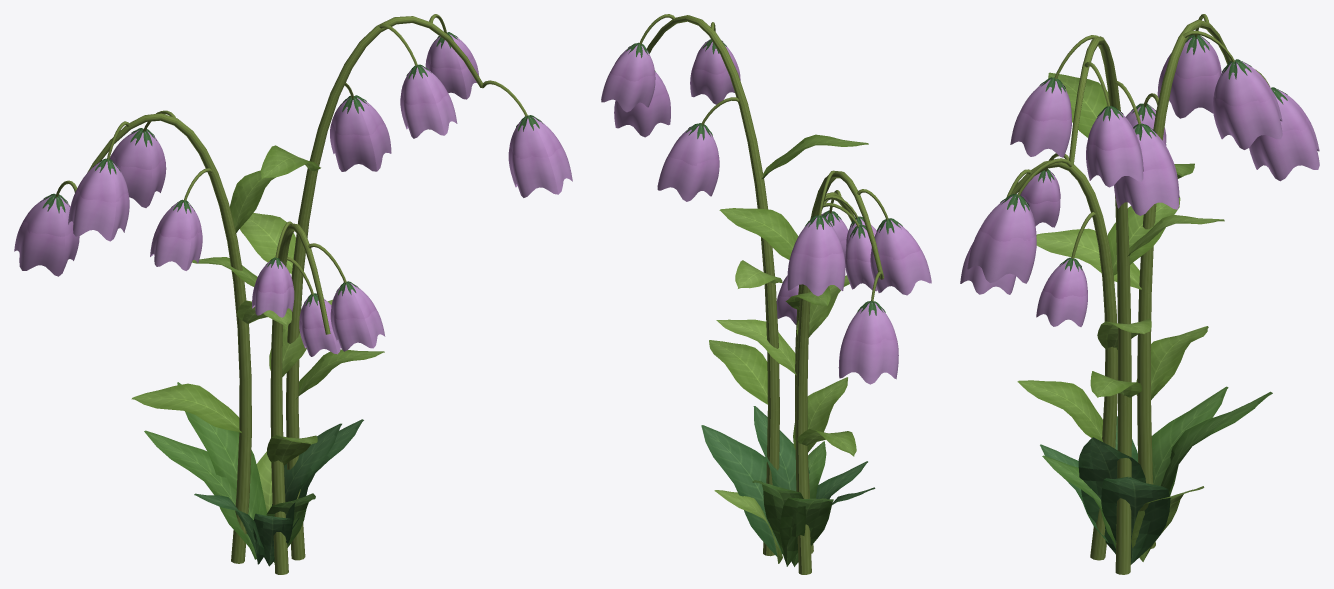
File: SM_ValleyBellflowers.fbx
3 views of the same model, side by side, from view 1: azimuth 30°, elevation 25°; view 2: azimuth 150°, elevation 25°; view 3: azimuth 270°, elevation 25° (orthographic). The views are drawn at different scales.
Visible parts, largest first — view 1: SM_ValleyBellflowers; view 2: SM_ValleyBellflowers; view 3: SM_ValleyBellflowers.
Boxes of the visible parts, left/top/right/bottom form: SM_ValleyBellflowers: left=14, top=14, right=572, bottom=574; SM_ValleyBellflowers: left=601, top=14, right=931, bottom=574; SM_ValleyBellflowers: left=960, top=14, right=1319, bottom=574.
Bounding box in the file's own units: 78.49 × 53.21 × 94.71.
1 material, 1 textured.
